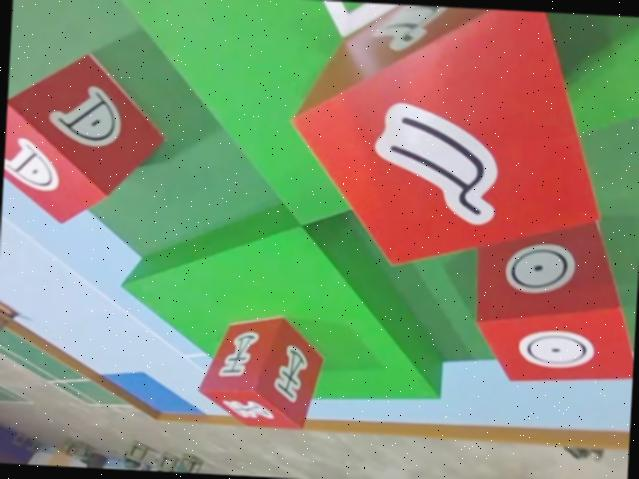R2 Real: (286, 0, 608, 276), (471, 202, 639, 386), (1, 49, 166, 228), (198, 310, 326, 431)
